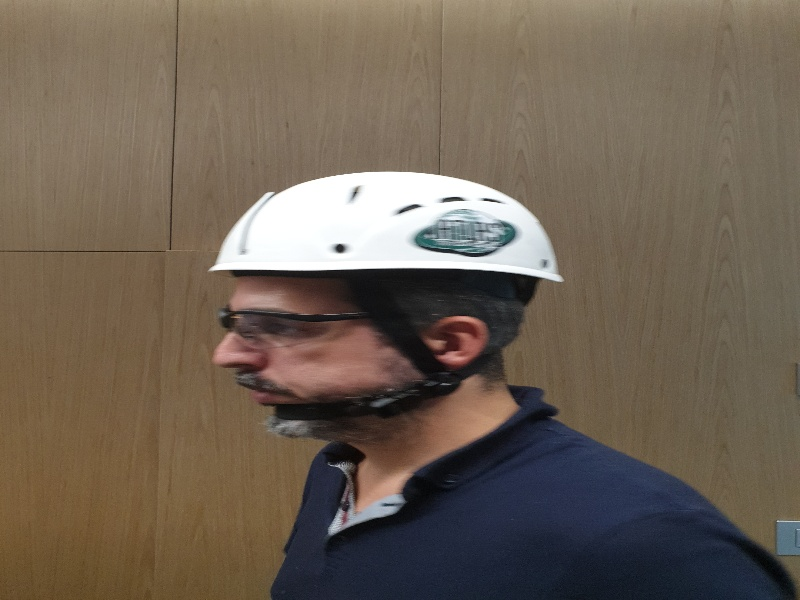Baret: (206, 170, 564, 282)
Gozluk: (218, 306, 378, 343)
